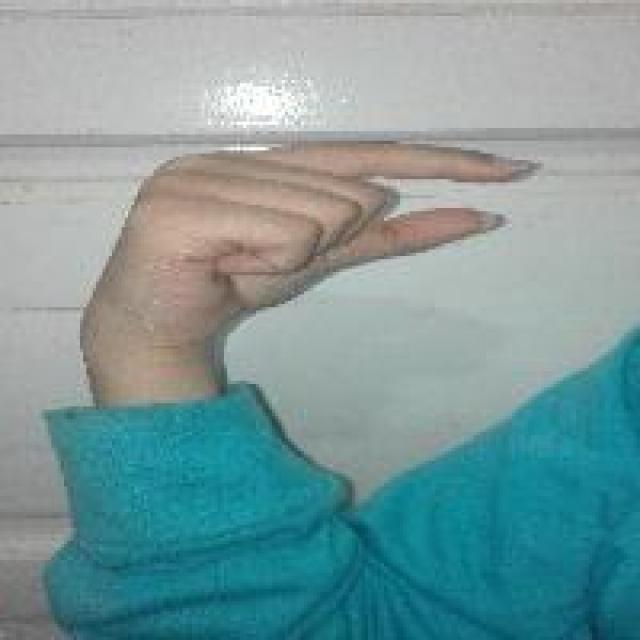G: (80, 128, 538, 362)
